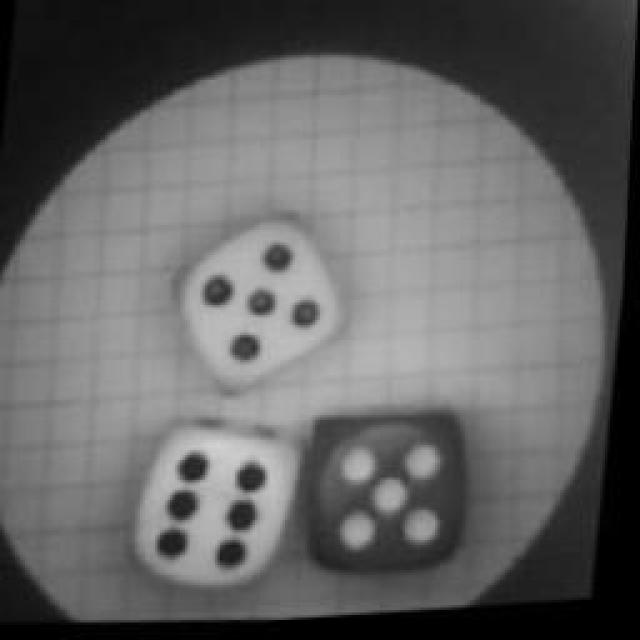dice_5: (168, 197, 362, 395), (299, 404, 486, 591)
dice_6: (124, 410, 318, 605)
